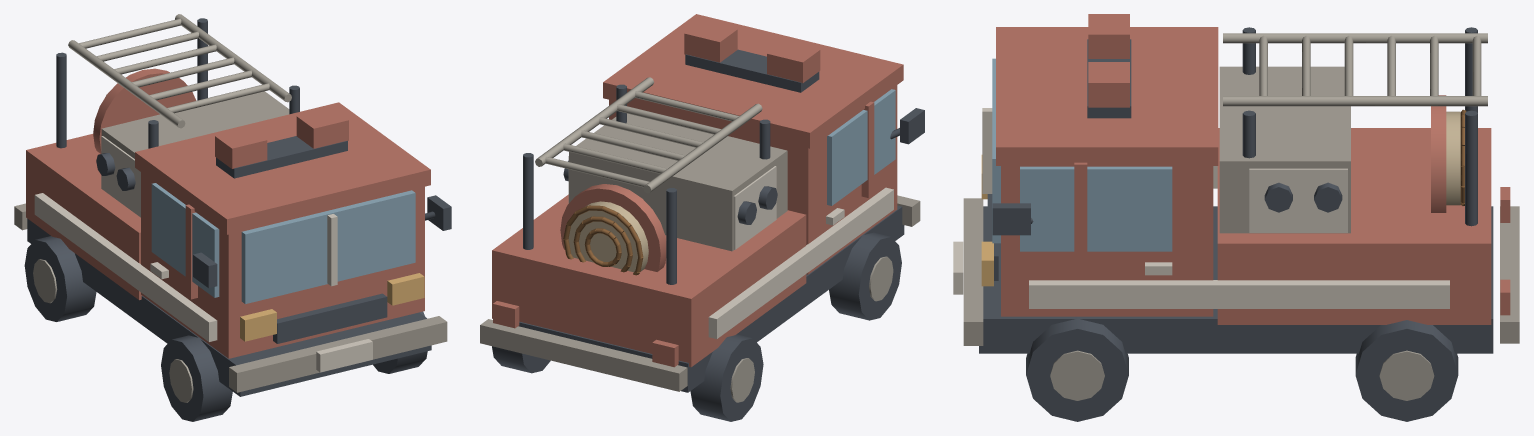
File: komachi-kei-fire-truck.glb
3 renders of one model, left to right at view 1: azimuth 30°, elevation 25°; view 2: azimuth 150°, elevation 25°; view 3: azimuth 270°, elevation 25°, orthographic. The views are drawn at different scales.
Parts seen in each view (by area): view 1: Truck_Body_And_Equipment, Wheel_Left_Front, Wheel_Left_Rear, Wheel_Right_Front; view 2: Truck_Body_And_Equipment, Wheel_Left_Front, Wheel_Left_Rear, Wheel_Right_Rear; view 3: Truck_Body_And_Equipment, Wheel_Right_Front, Wheel_Right_Rear.
Part boxes in pixels (box(x1,y1,x2,y2)): Truck_Body_And_Equipment: box(14, 14, 451, 396); Wheel_Left_Front: box(161, 335, 232, 421); Wheel_Left_Rear: box(24, 236, 96, 321); Wheel_Right_Front: box(373, 311, 427, 373); Truck_Body_And_Equipment: box(480, 14, 924, 392); Wheel_Left_Front: box(829, 232, 901, 320); Wheel_Left_Rear: box(690, 334, 763, 421); Wheel_Right_Rear: box(492, 346, 550, 373); Truck_Body_And_Equipment: box(953, 14, 1519, 353); Wheel_Right_Front: box(1026, 316, 1128, 421); Wheel_Right_Rear: box(1355, 320, 1458, 421).
Size of the model in its own units: 0.31 by 0.3095 by 0.5175.
